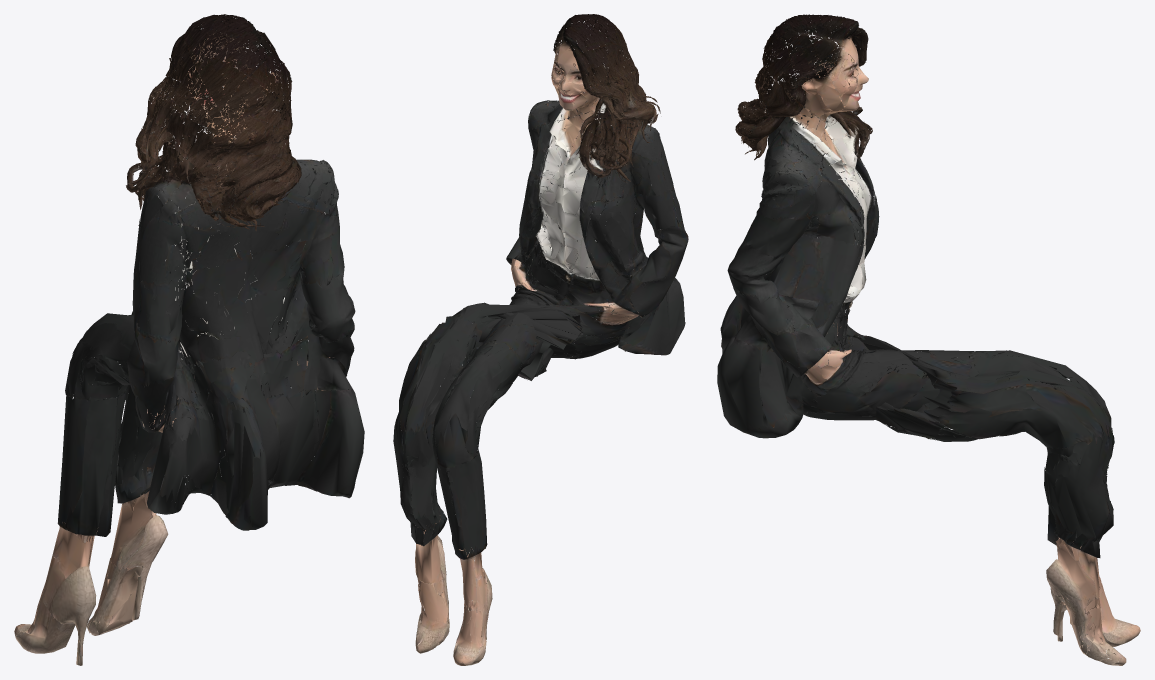
Rendered from passenger-b-seated.glb.
The picture shows the model from 3 angles, left to right: view 1: azimuth 30°, elevation 25°; view 2: azimuth 150°, elevation 25°; view 3: azimuth 270°, elevation 25°; orthographic projection. The views are drawn at different scales.
Visible parts, largest first — view 1: passenger-b-seated / posed source mesh; view 2: passenger-b-seated / posed source mesh; view 3: passenger-b-seated / posed source mesh.
Boxes of the visible parts, <box> form: passenger-b-seated / posed source mesh: <box>14,14,364,665</box>; passenger-b-seated / posed source mesh: <box>393,14,688,665</box>; passenger-b-seated / posed source mesh: <box>717,14,1140,665</box>.
Bounding box in the file's own units: 0.5553 × 1.56 × 0.9486.
Materials: 1 (1 with a texture image).
